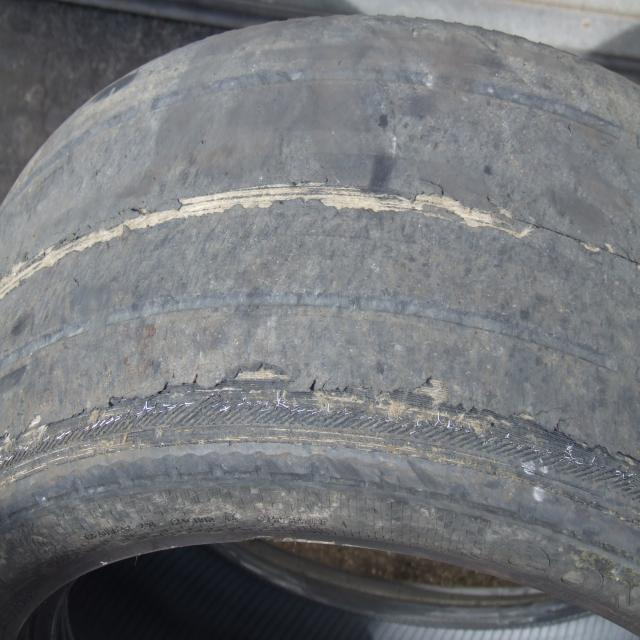Flat spots: (91, 97, 640, 188), (226, 33, 494, 93)
